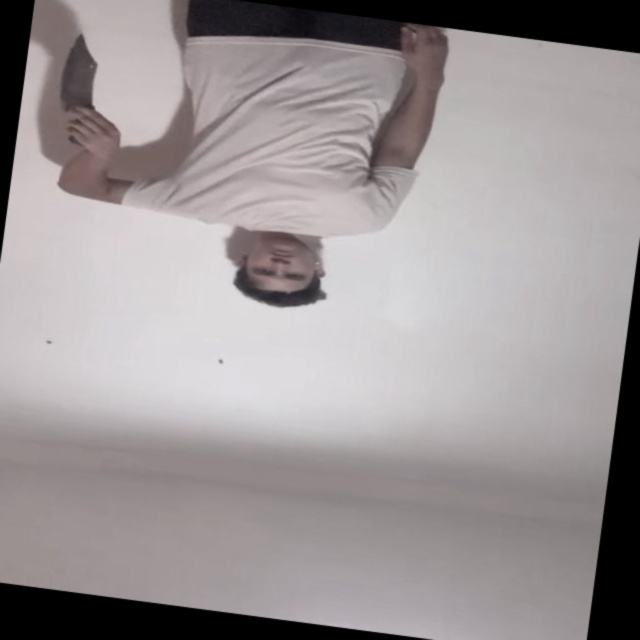Sharp-Object: (54, 39, 107, 112)
